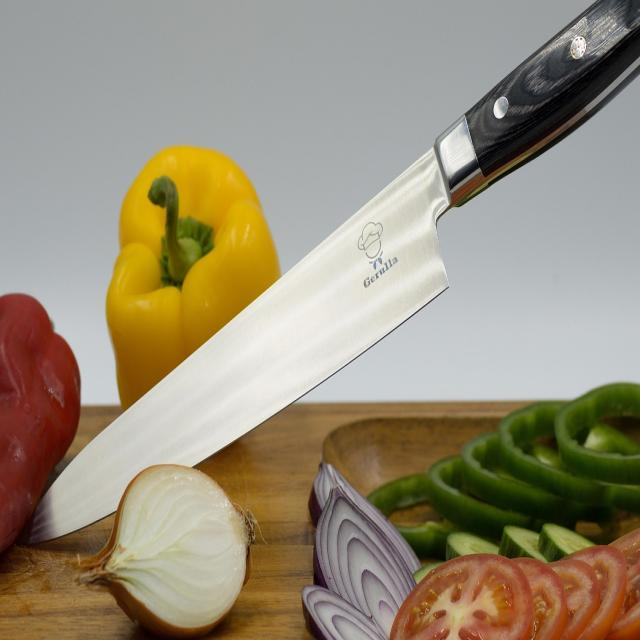Knife: (22, 0, 640, 543)
